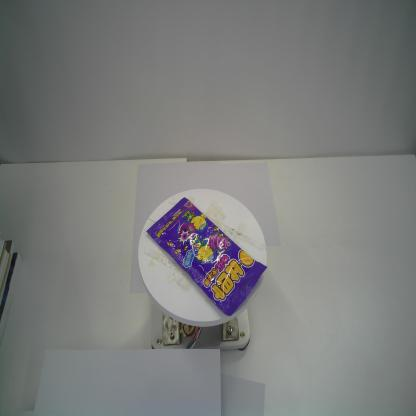Candy: (146, 196, 268, 318)
